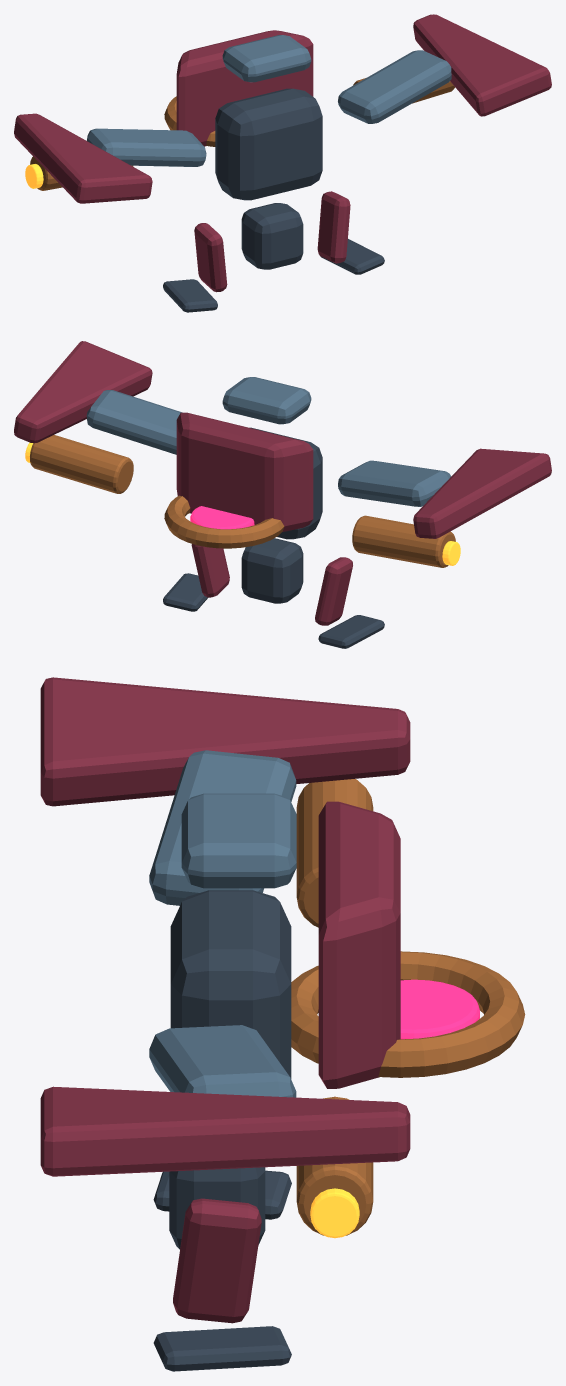
Rendered from pulseTerminalSentryV4.candidate.glb.
3 renders of one model, top to bottom at view 1: azimuth 30°, elevation 25°; view 2: azimuth 150°, elevation 25°; view 3: azimuth 270°, elevation 25°, orthographic. The views are drawn at different scales.
Visible parts, largest first — view 1: sentinel continuous armoured core, sentinel blade wing 1, sentinel blade wing -1, sentinel forward breastplate, sentinel swept shoulder armour 1, sentinel swept shoulder armour -1, sentinel lower reactor keel, sentinel crown armour, sentinel lower stabilizer 1, sentinel lower stabilizer -1, sentinel ventral blade -1, sentinel ventral blade 1 (+2 smaller); view 2: sentinel forward breastplate, sentinel blade wing 1, sentinel blade wing -1, sentinel rotary cannon 1, sentinel swept shoulder armour 1, sentinel swept shoulder armour -1, sentinel lower reactor keel, sentinel rotary cannon -1, sentinel crown armour, sentinel reactor containment ring, sentinel lower stabilizer -1, sentinel lower stabilizer 1 (+5 smaller); view 3: sentinel blade wing -1, sentinel blade wing 1, sentinel forward breastplate, sentinel continuous armoured core, sentinel reactor containment ring, sentinel crown armour, sentinel lower stabilizer 1, sentinel swept shoulder armour 1, sentinel swept shoulder armour -1, sentinel ventral blade 1, sentinel rotary cannon -1, sentinel lower reactor keel (+4 smaller).
Part boxes in pixels (x1=…): sentinel continuous armoured core: x1=215, y1=88, x2=322, y2=200; sentinel blade wing 1: x1=413, y1=14, x2=551, y2=116; sentinel blade wing -1: x1=14, y1=113, x2=152, y2=203; sentinel forward breastplate: x1=176, y1=30, x2=313, y2=146; sentinel swept shoulder armour 1: x1=338, y1=50, x2=451, y2=123; sentinel swept shoulder armour -1: x1=87, y1=128, x2=206, y2=166; sentinel lower reactor keel: x1=241, y1=203, x2=303, y2=269; sentinel crown armour: x1=222, y1=35, x2=311, y2=82; sentinel lower stabilizer 1: x1=317, y1=191, x2=350, y2=263; sentinel lower stabilizer -1: x1=194, y1=223, x2=227, y2=292; sentinel ventral blade -1: x1=163, y1=279, x2=217, y2=312; sentinel ventral blade 1: x1=320, y1=239, x2=384, y2=274; sentinel forward breastplate: x1=176, y1=412, x2=313, y2=531; sentinel blade wing 1: x1=14, y1=341, x2=152, y2=443; sentinel blade wing -1: x1=413, y1=448, x2=551, y2=538; sentinel rotary cannon 1: x1=30, y1=435, x2=133, y2=493; sentinel swept shoulder armour 1: x1=86, y1=390, x2=182, y2=454; sentinel swept shoulder armour -1: x1=338, y1=460, x2=450, y2=506; sentinel lower reactor keel: x1=241, y1=538, x2=303, y2=603; sentinel rotary cannon -1: x1=352, y1=515, x2=455, y2=567; sentinel crown armour: x1=222, y1=377, x2=311, y2=424; sentinel reactor containment ring: x1=164, y1=495, x2=284, y2=548; sentinel lower stabilizer -1: x1=315, y1=557, x2=352, y2=625; sentinel lower stabilizer 1: x1=191, y1=544, x2=229, y2=597; sentinel blade wing -1: x1=40, y1=677, x2=410, y2=806; sentinel blade wing 1: x1=40, y1=1086, x2=410, y2=1176; sentinel forward breastplate: x1=318, y1=801, x2=400, y2=1088; sentinel continuous armoured core: x1=170, y1=890, x2=291, y2=1078; sentinel reactor containment ring: x1=291, y1=951, x2=525, y2=1077; sentinel crown armour: x1=181, y1=793, x2=296, y2=888; sentinel lower stabilizer 1: x1=173, y1=1198, x2=261, y2=1323; sentinel swept shoulder armour 1: x1=149, y1=1025, x2=296, y2=1097; sentinel swept shoulder armour -1: x1=149, y1=750, x2=296, y2=905; sentinel ventral blade 1: x1=153, y1=1326, x2=291, y2=1371; sentinel rotary cannon -1: x1=296, y1=779, x2=373, y2=927; sentinel lower reactor keel: x1=169, y1=1167, x2=265, y2=1249.
Bounding box in the file's own units: 4 × 1.87 × 1.77.
